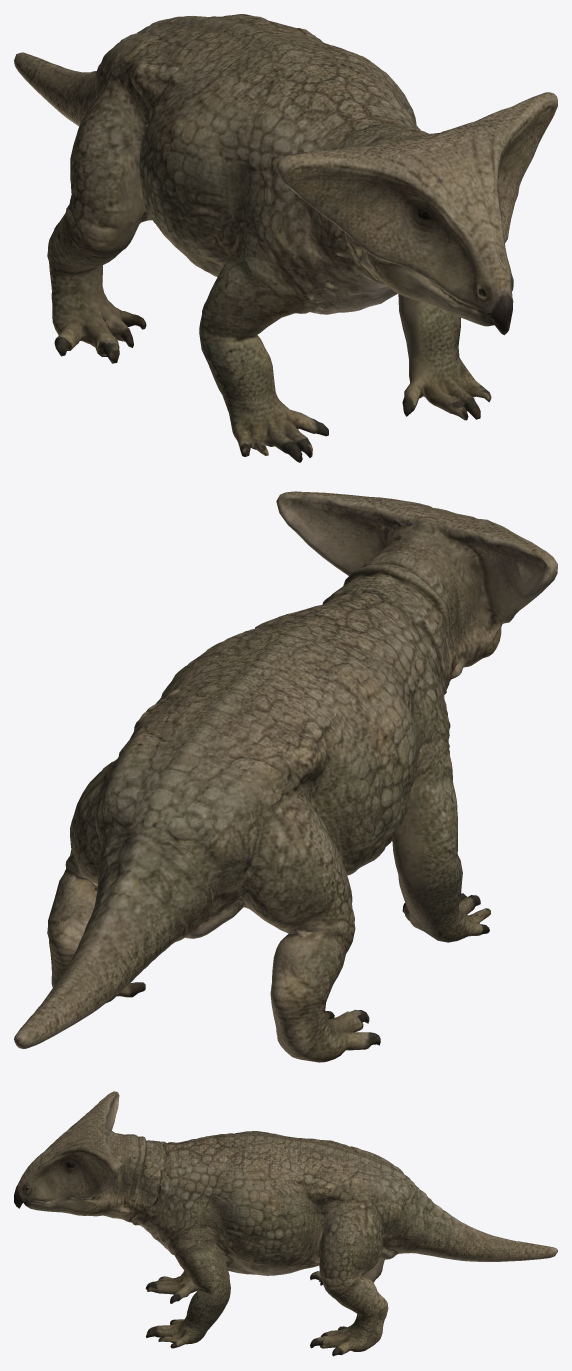
File: hyperodapedon.glb
The picture shows the model from 3 angles, top to bottom: view 1: azimuth 30°, elevation 25°; view 2: azimuth 150°, elevation 25°; view 3: azimuth 270°, elevation 25°; orthographic projection. The views are drawn at different scales.
Visible parts, largest first — view 1: hyperodapedon_medio; view 2: hyperodapedon_medio; view 3: hyperodapedon_medio.
Boxes of the visible parts, bbox=[...] form: hyperodapedon_medio: bbox=[14, 14, 557, 462]; hyperodapedon_medio: bbox=[14, 491, 557, 1062]; hyperodapedon_medio: bbox=[14, 1091, 557, 1356].
Bounding box in the file's own units: 0.4929 × 0.5006 × 1.3.
Materials: 1 (1 with a texture image).
